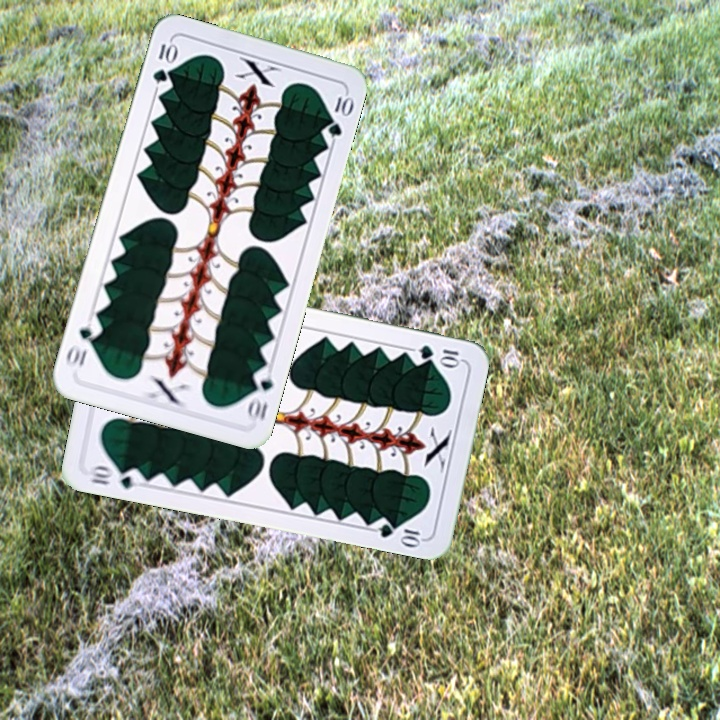G10: (243, 364, 276, 424), (85, 461, 145, 492), (148, 37, 178, 86), (415, 341, 464, 368)
